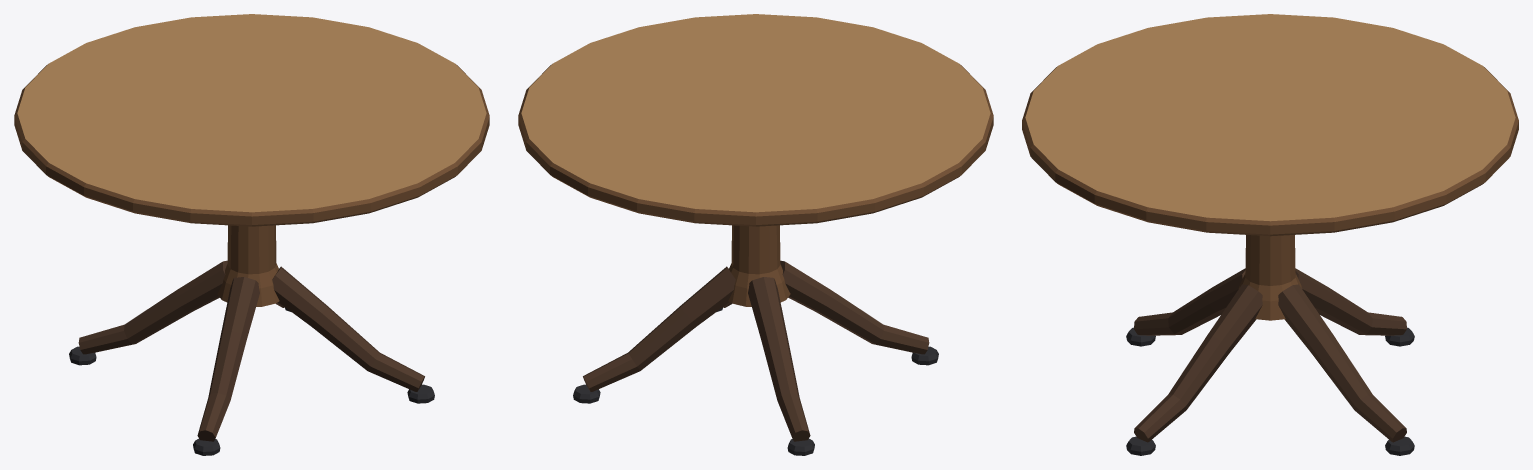
Rendered from FN_Table_Round_Dining.obj.
3 renders of one model, left to right at view 1: azimuth 30°, elevation 25°; view 2: azimuth 150°, elevation 25°; view 3: azimuth 270°, elevation 25°, orthographic. The views are drawn at different scales.
Visible parts, largest first — view 1: FN_Table_Round_Dining; view 2: FN_Table_Round_Dining; view 3: FN_Table_Round_Dining.
Boxes of the visible parts, box(x1,y1,x2,y2) form: FN_Table_Round_Dining: box(14, 14, 489, 455); FN_Table_Round_Dining: box(518, 14, 993, 455); FN_Table_Round_Dining: box(1022, 14, 1518, 455).
Bounding box in the file's own units: 1.2 × 0.74 × 1.2.
Materials: 1 (1 with a texture image).
